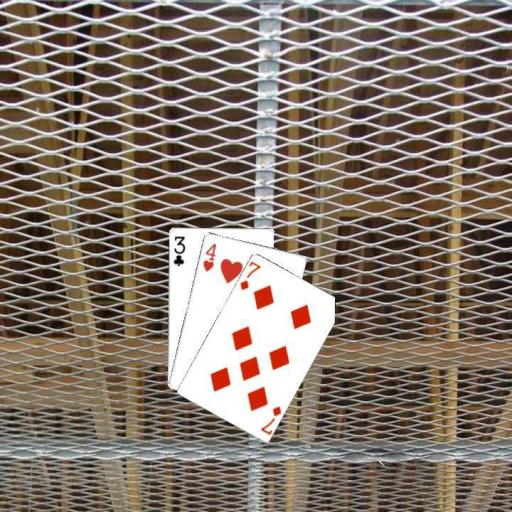card-corner: (237, 258, 262, 292), (258, 403, 282, 435), (200, 240, 218, 273), (170, 232, 186, 268)
